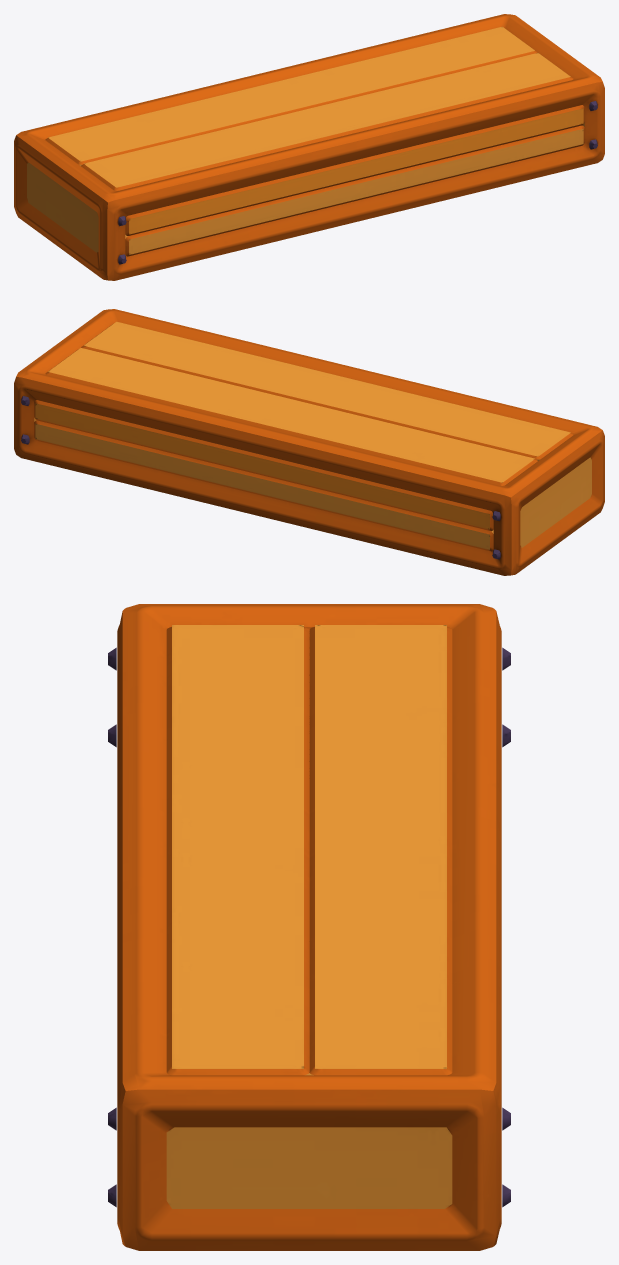
File: kalas3.glb
The picture shows the model from 3 angles, top to bottom: view 1: azimuth 30°, elevation 25°; view 2: azimuth 150°, elevation 25°; view 3: azimuth 270°, elevation 25°; orthographic projection. The views are drawn at different scales.
Visible parts, largest first — view 1: kalas3; view 2: kalas3; view 3: kalas3.
Part boxes in pixels (x1=…): kalas3: x1=14, y1=14, x2=604, y2=280; kalas3: x1=14, y1=309, x2=604, y2=575; kalas3: x1=108, y1=604, x2=510, y2=1250.
Bounding box in the file's own units: 4.6 × 0.7465 × 1.6.
Materials: 1 (1 with a texture image).
